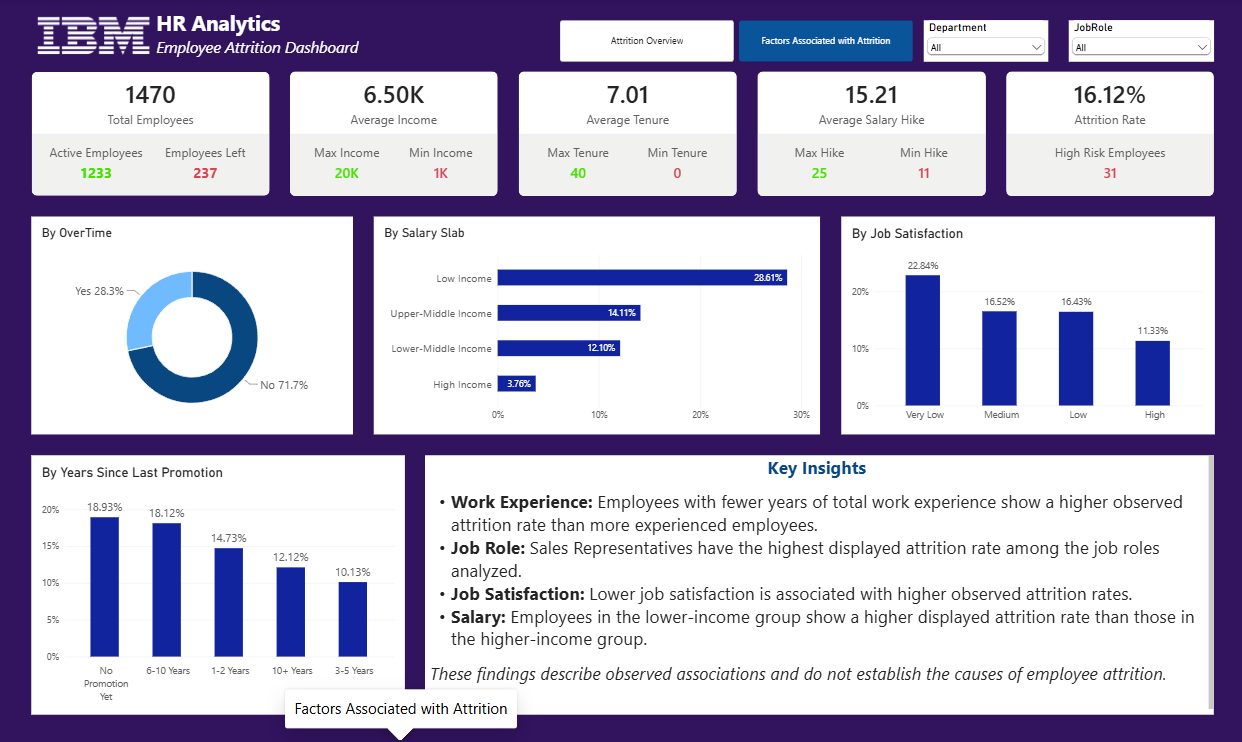

What the dashboard file says about the page in this screenshot:
{"tool":"powerbi","page":{"name":"Factors Associated with Attrition","canvas":[1920,1150],"ordinal":1},"visuals":[{"type":"cardVisual","fields":{"Data":["Count(Employee.EmployeeNumber)"]},"box":[48,112,368,192],"z":0},{"type":"cardVisual","fields":{"Data":["Avg(Employee.MonthlyIncome)"]},"box":[448,112,320,192],"z":1000},{"type":"cardVisual","fields":{"Data":["Avg(Employee.YearsAtCompany)"]},"box":[800,112,336,192],"z":2000},{"type":"cardVisual","fields":{"Data":["Avg(Employee.PercentSalaryHike)"]},"box":[1168,112,352,192],"z":3000},{"type":"cardVisual","fields":{"Data":["_Measure.Attrition Rate"]},"box":[1552,112,320,192],"z":4000},{"type":"clusteredColumnChart","title":"By Years Since Last Promotion","fields":{"Category":["Employee.Promotion Group"],"Y":["_Measure.Attrition Rate"]},"box":[48,704,576,400],"z":5000},{"type":"clusteredColumnChart","title":"By Job Satisfaction","fields":{"Category":["Employee.Job Satisfaction Group"],"Y":["_Measure.Attrition Rate"]},"box":[1296,336,576,336],"z":6000},{"type":"clusteredBarChart","title":"By Salary Slab","fields":{"Category":["Employee.Salary Slab"],"Y":["_Measure.Attrition Rate"]},"box":[576,336,688,336],"z":7000},{"type":"donutChart","title":"By OverTime","fields":{"Category":["Employee.OverTime"],"Y":["CountNonNull(Employee.Gender)"]},"box":[48,336,496,336],"z":8000},{"type":"image","box":[48,16,192,80],"z":9000},{"type":"textbox","box":[96,96,720,80],"z":10000},{"type":"textbox","box":[240,16,336,96],"z":11000},{"type":"slicer","fields":{"Values":["Employee.Department"]},"box":[1424,32,192,64],"z":12000},{"type":"slicer","fields":{"Values":["Employee.JobRole"]},"box":[1648,32,224,64],"z":13000},{"type":"textbox","box":[656,704,1216,400],"z":14000},{"type":"pageNavigator","box":[864,32,544,64],"z":15000}]}

Visuals, with their boxes in screenshot pixels (x1, y1, x2, y2), scaled from the page's 1920x1150 canvas onto the 1242x742 screenshot:
cardVisual - Count(Employee.EmployeeNumber): bbox(31, 72, 269, 196)
cardVisual - Avg(Employee.MonthlyIncome): bbox(290, 72, 497, 196)
cardVisual - Avg(Employee.YearsAtCompany): bbox(518, 72, 735, 196)
cardVisual - Avg(Employee.PercentSalaryHike): bbox(756, 72, 983, 196)
cardVisual - _Measure.Attrition Rate: bbox(1004, 72, 1211, 196)
"By Years Since Last Promotion" clusteredColumnChart: bbox(31, 454, 404, 712)
"By Job Satisfaction" clusteredColumnChart: bbox(838, 217, 1211, 434)
"By Salary Slab" clusteredBarChart: bbox(373, 217, 818, 434)
"By OverTime" donutChart: bbox(31, 217, 352, 434)
image: bbox(31, 10, 155, 62)
textbox: bbox(62, 62, 528, 114)
textbox: bbox(155, 10, 373, 72)
slicer - Employee.Department: bbox(921, 21, 1045, 62)
slicer - Employee.JobRole: bbox(1066, 21, 1211, 62)
textbox: bbox(424, 454, 1211, 712)
pageNavigator: bbox(559, 21, 911, 62)
